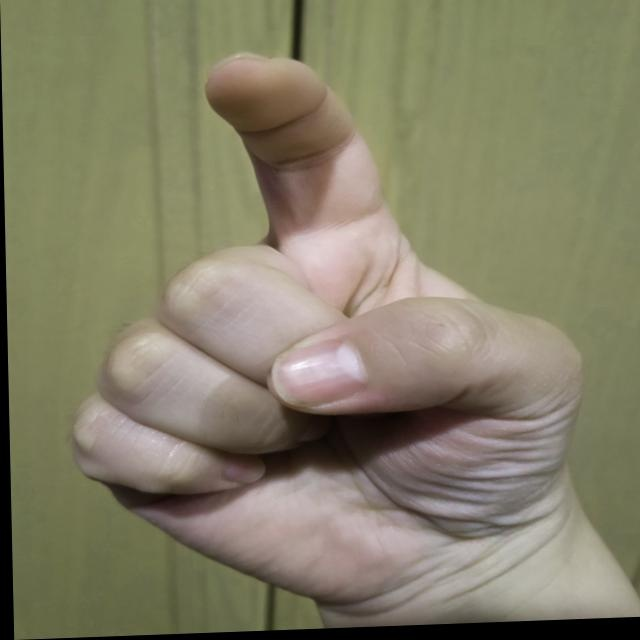X: (51, 37, 599, 627)
